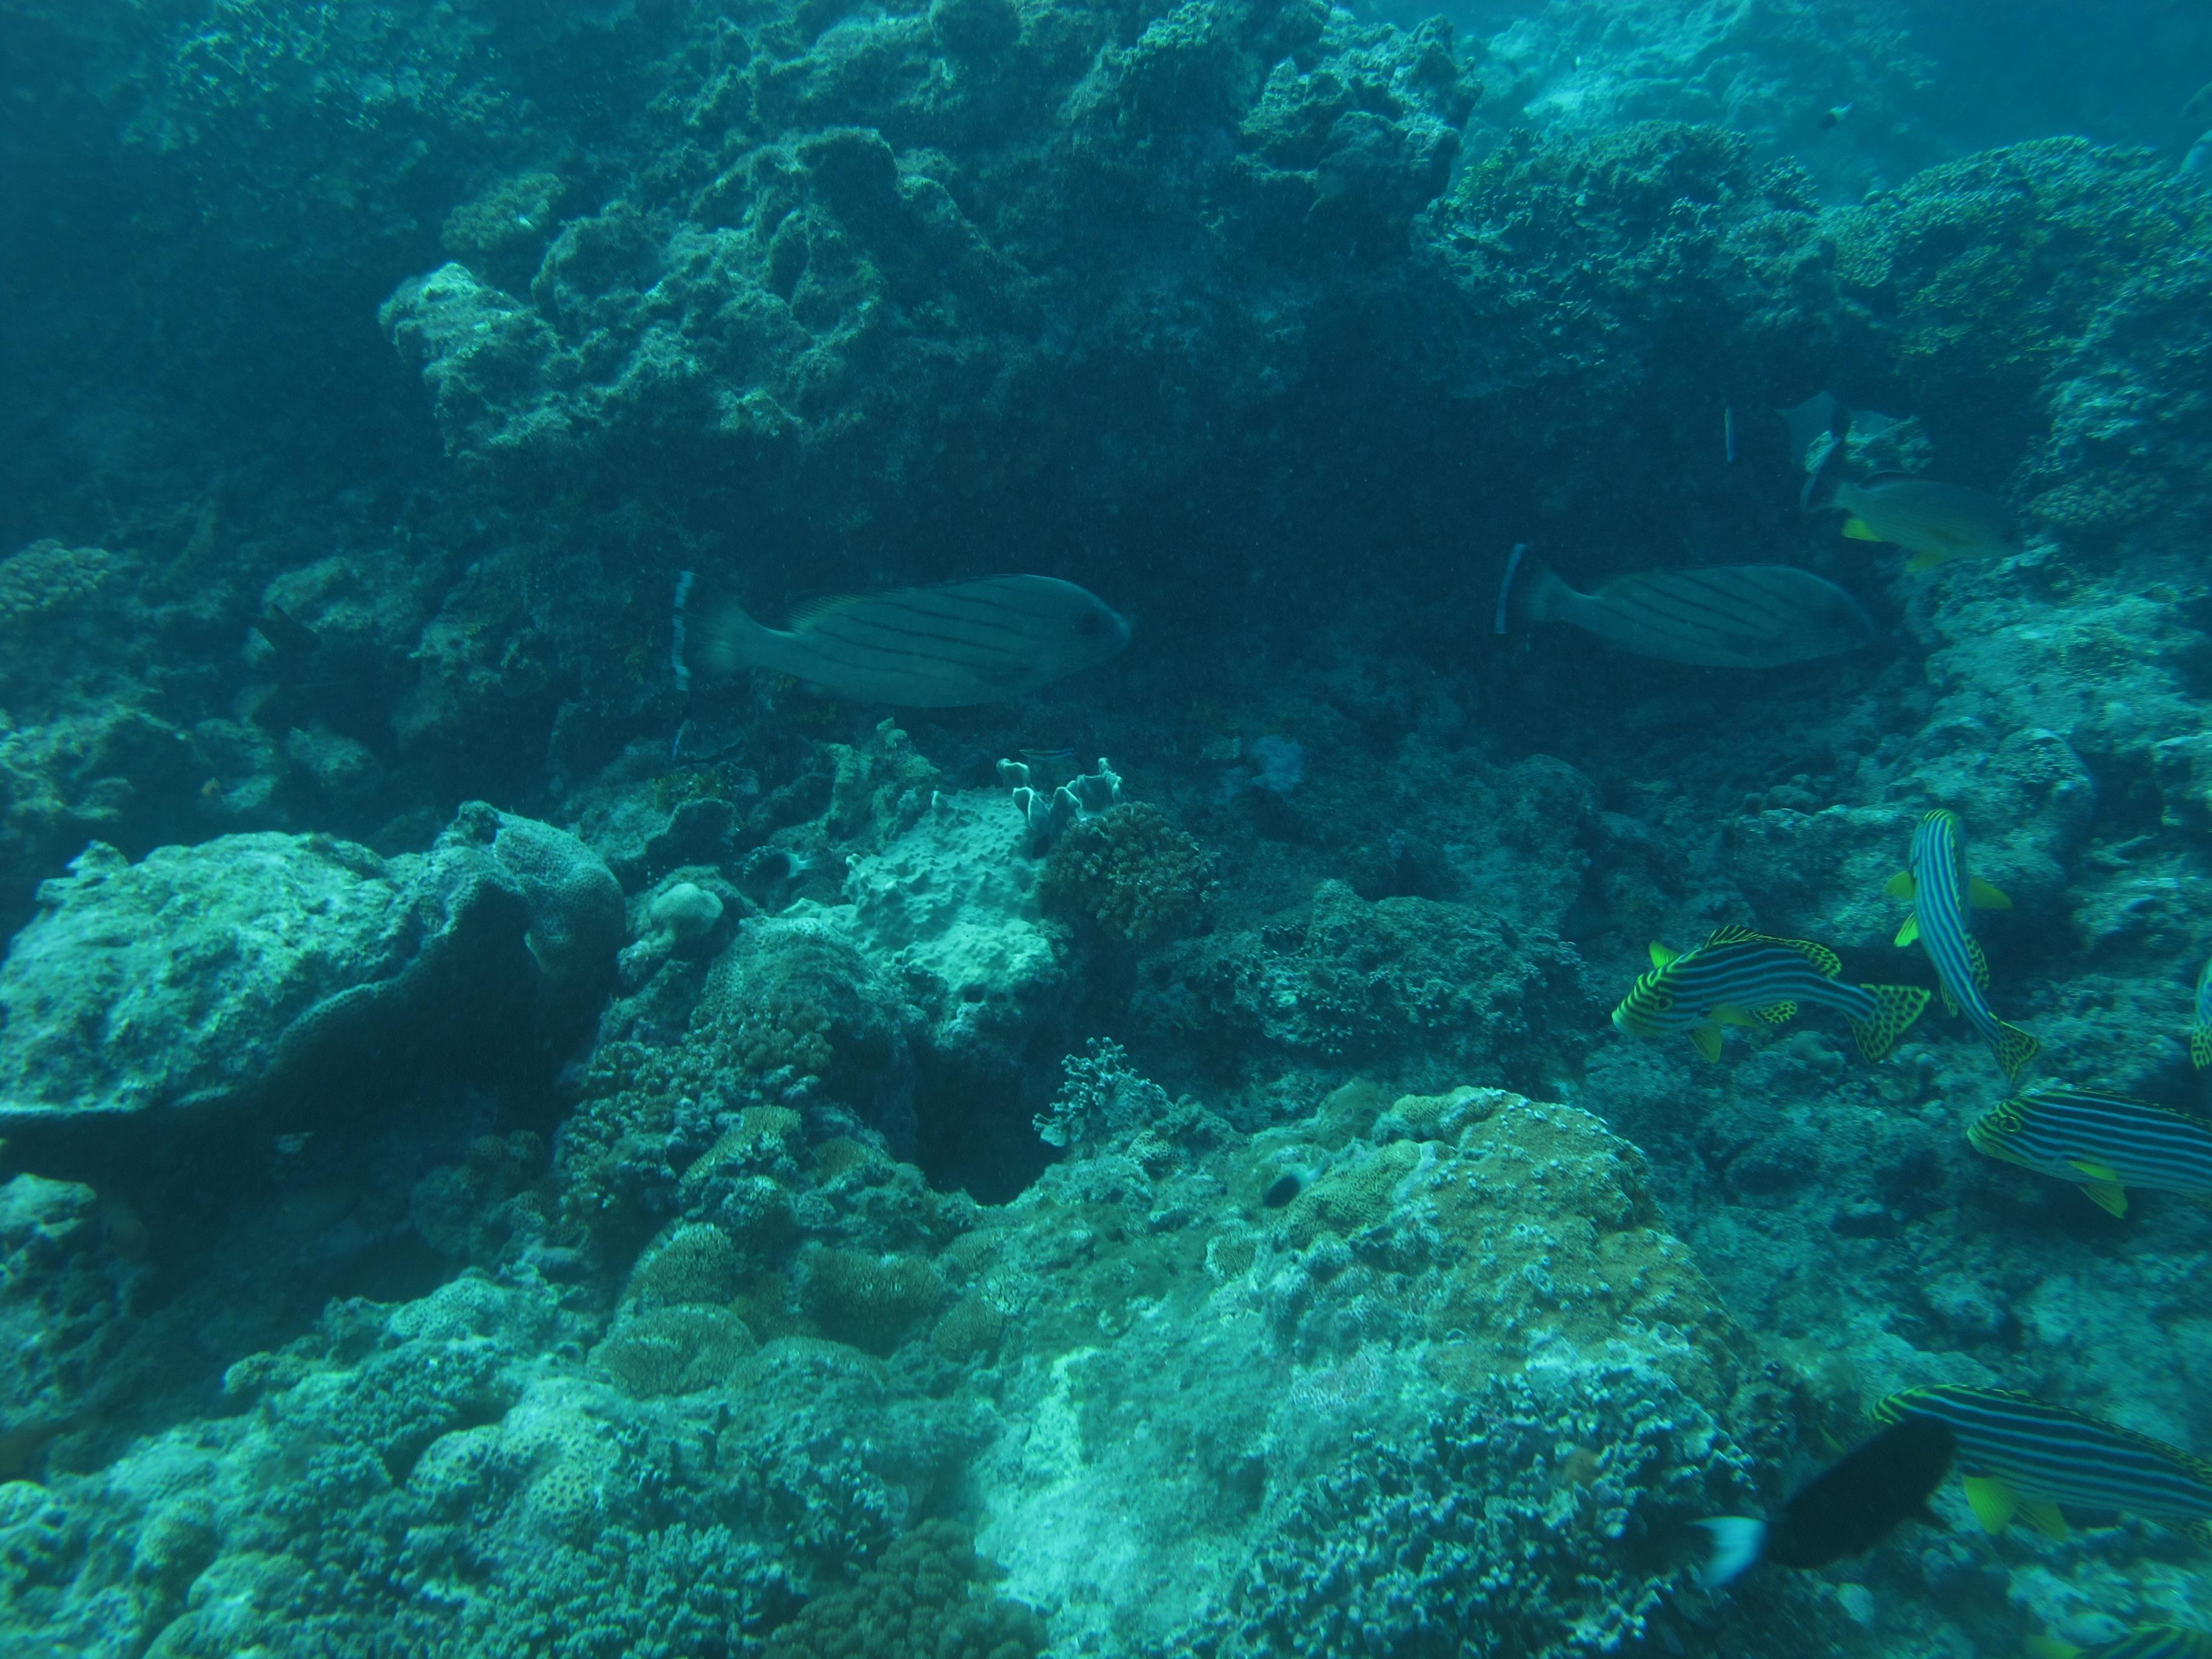Fish: (631, 500, 1191, 749), (1474, 519, 1886, 713)
